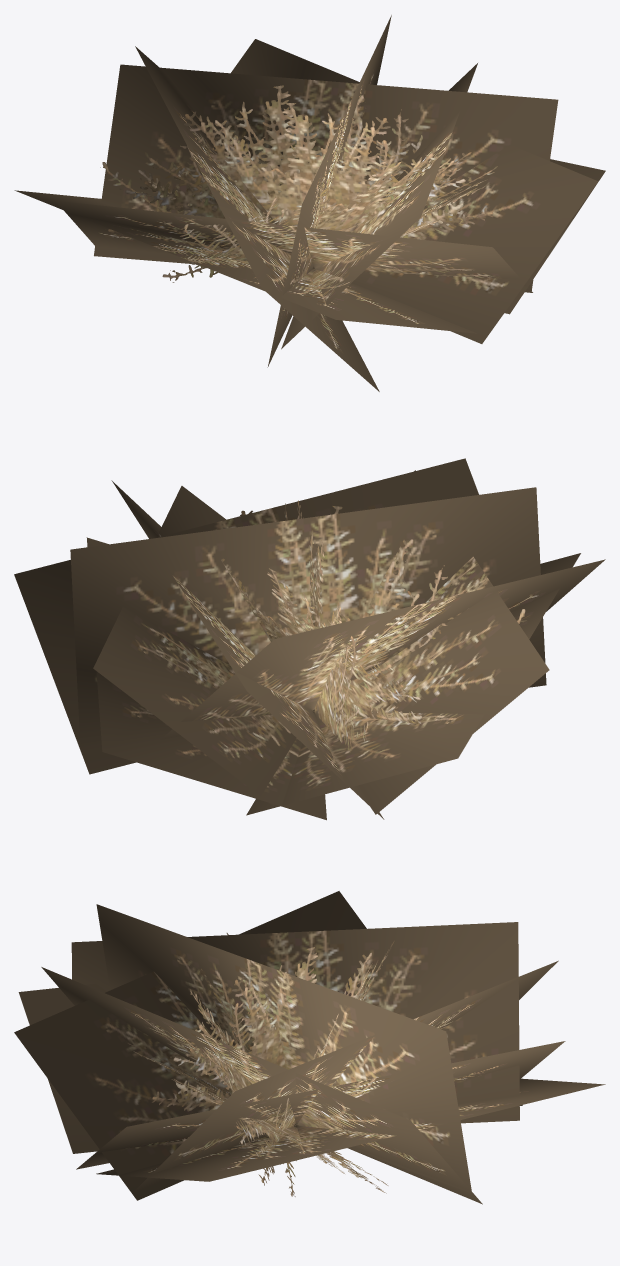
Rendered from shrb_dsrt_brown_a1_l0.fbx.
The picture shows the model from 3 angles, top to bottom: view 1: azimuth 30°, elevation 25°; view 2: azimuth 150°, elevation 25°; view 3: azimuth 270°, elevation 25°; orthographic projection. The views are drawn at different scales.
Parts seen in each view (by area): view 1: mesh_node; view 2: mesh_node; view 3: mesh_node.
Part boxes in pixels (box(x1,y1,x2,y2)): mesh_node: box(14, 15, 605, 391); mesh_node: box(14, 458, 605, 820); mesh_node: box(14, 891, 605, 1204).
Bounding box in the file's own units: 2.46 × 1.04 × 2.46.
Materials: 2 (2 with a texture image).
